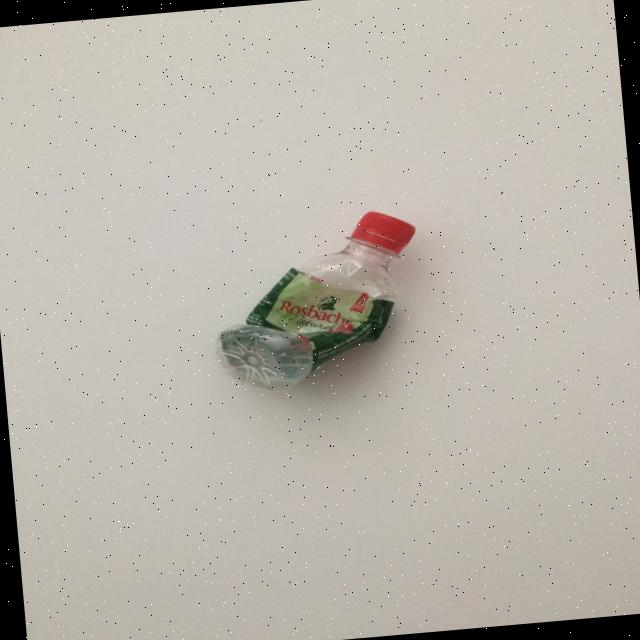plastic: (204, 206, 428, 397)
